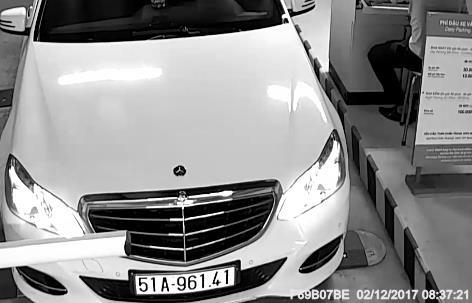License-plate: (129, 261, 250, 300)
